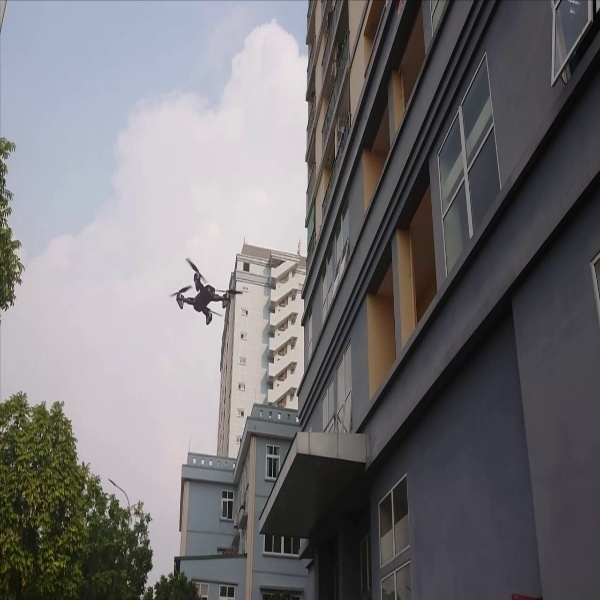drone: (156, 252, 255, 333)
